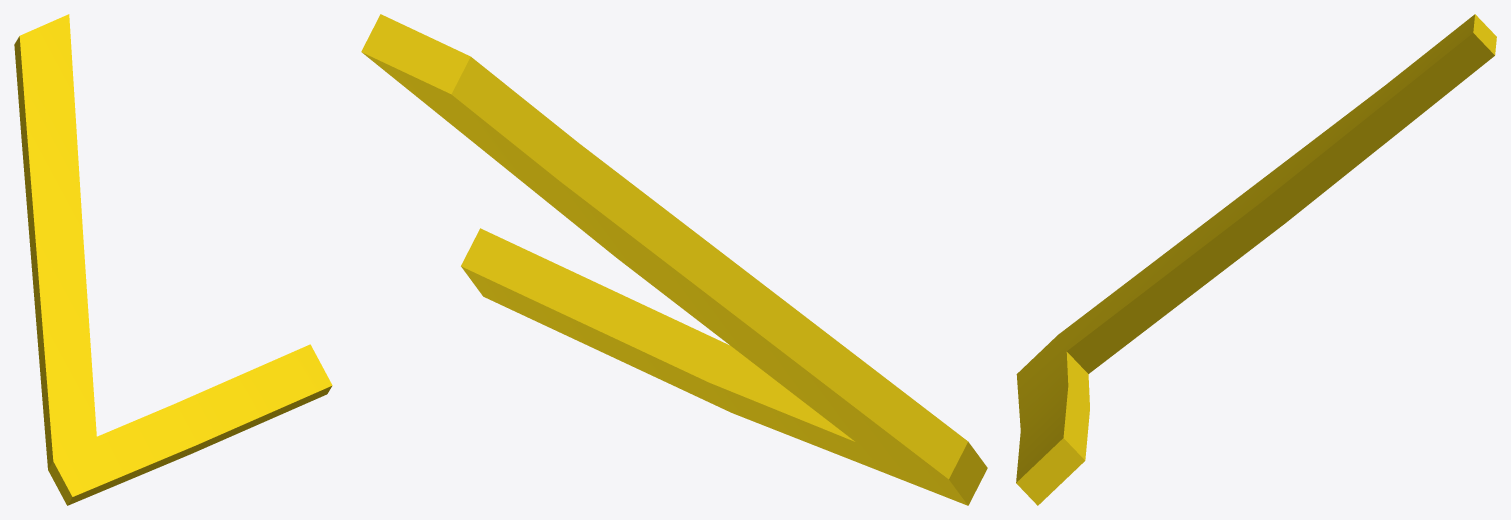
File: Number_7.gltf
The picture shows the model from 3 angles, left to right: view 1: azimuth 30°, elevation 25°; view 2: azimuth 150°, elevation 25°; view 3: azimuth 270°, elevation 25°; orthographic projection. The views are drawn at different scales.
Parts seen in each view (by area): view 1: Sub_2_Cell_3_1_Number_7; view 2: Sub_2_Cell_3_1_Number_7; view 3: Sub_2_Cell_3_1_Number_7.
Boxes of the visible parts, bbox=[...] form: Sub_2_Cell_3_1_Number_7: bbox=[14, 14, 332, 505]; Sub_2_Cell_3_1_Number_7: bbox=[361, 14, 987, 505]; Sub_2_Cell_3_1_Number_7: bbox=[1016, 14, 1496, 505].
Size of the model in its own units: 0.0169 by 0.0206 by 0.019.
